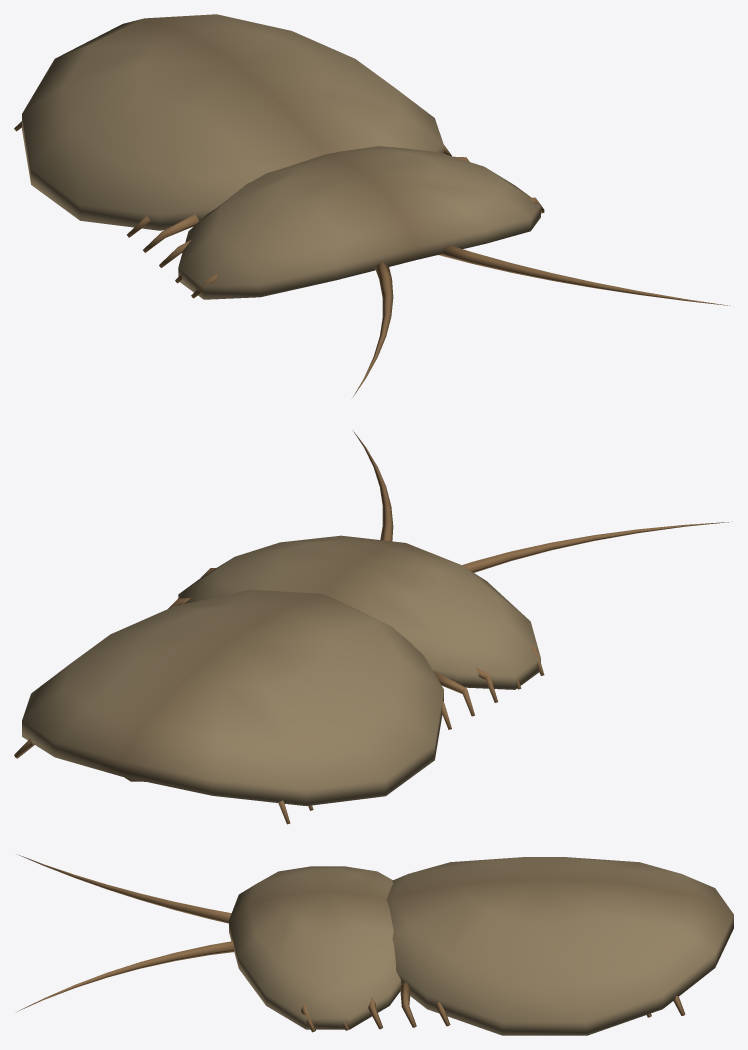
Rendered from Naraoia.fbx.
3 views of the same model, one above another, from view 1: azimuth 30°, elevation 25°; view 2: azimuth 150°, elevation 25°; view 3: azimuth 270°, elevation 25° (orthographic). The views are drawn at different scales.
Parts seen in each view (by area): view 1: Naraoia; view 2: Naraoia; view 3: Naraoia.
Part boxes in pixels (x1=…): Naraoia: x1=14, y1=14, x2=729, y2=396; Naraoia: x1=14, y1=431, x2=732, y2=824; Naraoia: x1=17, y1=854, x2=733, y2=1035.
Bounding box in the file's own units: 0.82 × 0.1981 × 1.56.
